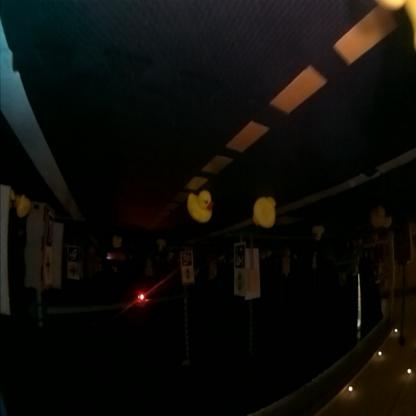Duckie: (188, 190, 214, 224), (252, 198, 274, 228), (18, 196, 30, 218), (115, 239, 120, 249), (159, 243, 165, 251)
Intersection sign: (46, 254, 52, 278), (70, 265, 78, 277)
QR code: (236, 246, 247, 268), (48, 219, 55, 245), (182, 254, 192, 267), (70, 248, 78, 262)
Signal sign: (235, 273, 245, 294), (186, 273, 194, 283)
Traffic light: (140, 296, 146, 302)
